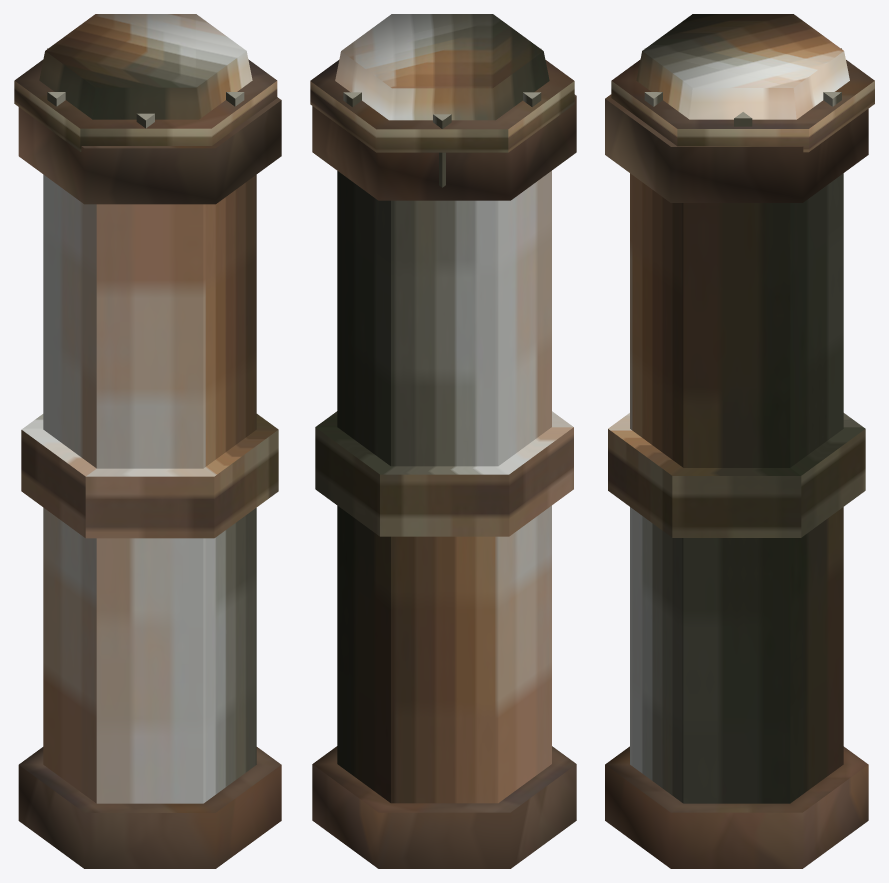
Rendered from pipes_l_3.fbx.
The picture shows the model from 3 angles, left to right: view 1: azimuth 30°, elevation 25°; view 2: azimuth 150°, elevation 25°; view 3: azimuth 270°, elevation 25°; orthographic projection.
Parts seen in each view (by area): view 1: CapFlatTall.002; view 2: CapFlatTall.002; view 3: CapFlatTall.002.
Part boxes in pixels (x1=…): CapFlatTall.002: x1=14, y1=14, x2=281, y2=868; CapFlatTall.002: x1=310, y1=14, x2=576, y2=868; CapFlatTall.002: x1=605, y1=14, x2=874, y2=868.
Size of the model in its own units: 53.64 by 199 by 63.12.
